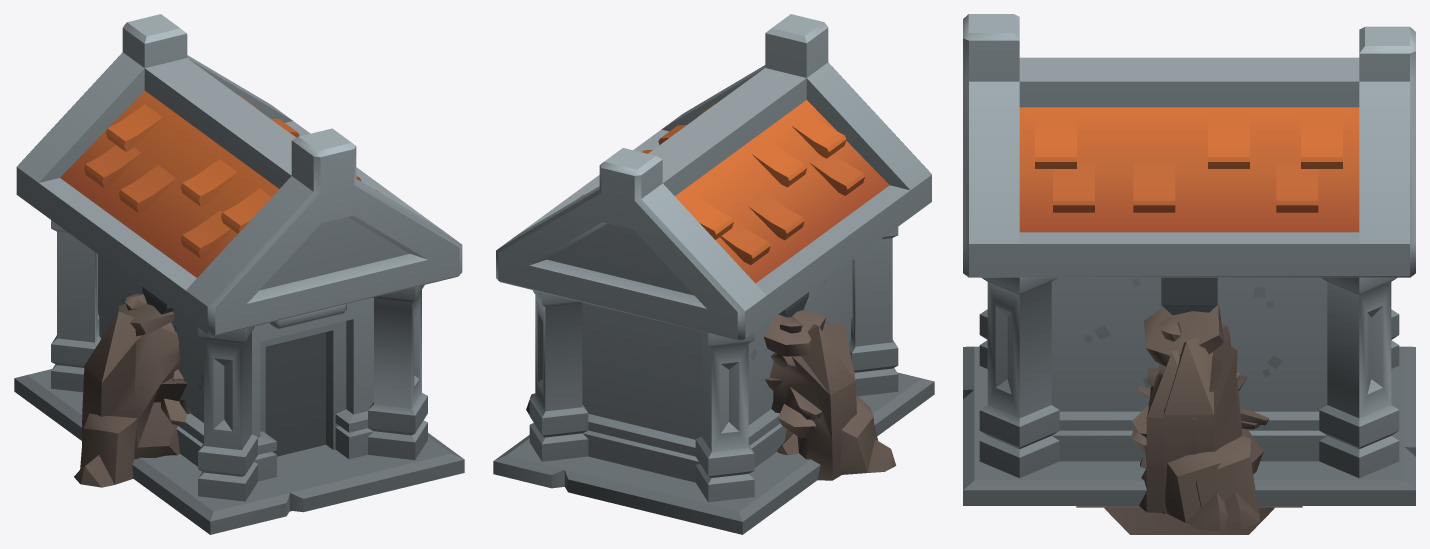
Rendered from props.glb.
3 renders of one model, left to right at view 1: azimuth 30°, elevation 25°; view 2: azimuth 150°, elevation 25°; view 3: azimuth 270°, elevation 25°, orthographic. The views are drawn at different scales.
Parts seen in each view (by area): view 1: crypt, rubble_large; view 2: crypt, rubble_large; view 3: crypt, rubble_half, rubble_large, floor_dirt_grave, wall.
Part boxes in pixels (<box>): crypt: <box>14,14,464,534</box>; rubble_large: <box>74,294,190,487</box>; crypt: <box>493,14,934,534</box>; rubble_large: <box>763,308,896,480</box>; crypt: <box>963,14,1415,505</box>; rubble_half: <box>1144,304,1269,529</box>; rubble_large: <box>1131,351,1259,531</box>; floor_dirt_grave: <box>1104,507,1274,534</box>; wall: <box>1161,277,1217,315</box>.
Bounding box in the file's own units: 8.13 × 9.5 × 8.
Materials: 3 (3 with a texture image).
